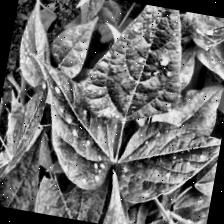Bean Rust: (78, 0, 197, 134), (28, 69, 124, 201), (108, 115, 222, 215)
